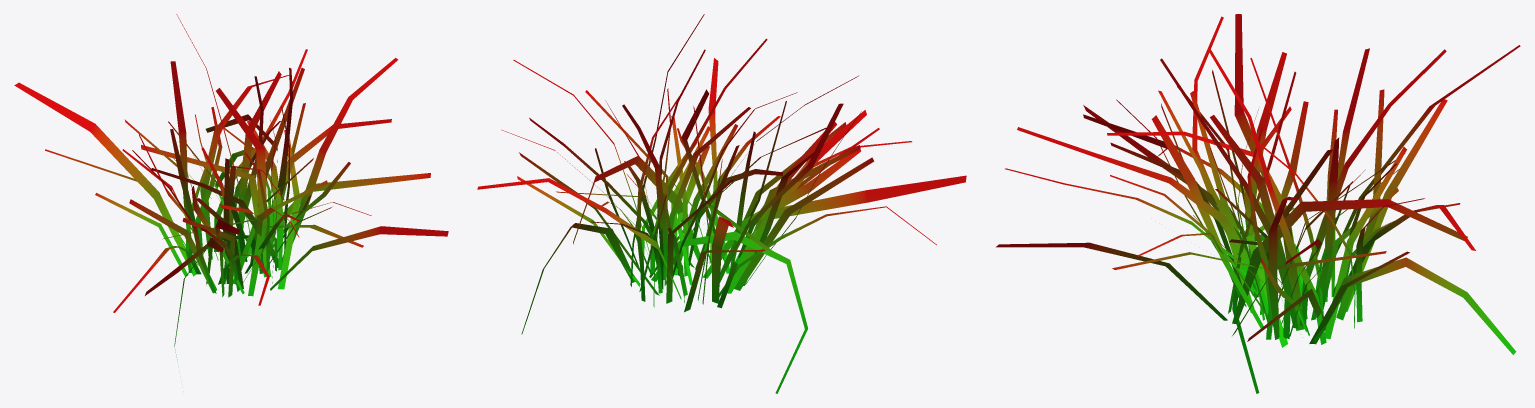
Rendered from Var6_LOD2.fbx.
3 renders of one model, left to right at view 1: azimuth 30°, elevation 25°; view 2: azimuth 150°, elevation 25°; view 3: azimuth 270°, elevation 25°, orthographic. The views are drawn at different scales.
Visible parts, largest first — view 1: Var6_LOD2; view 2: Var6_LOD2; view 3: Var6_LOD2.
Part boxes in pixels (x1,y1,x2,y2): Var6_LOD2: (14, 14, 448, 359); Var6_LOD2: (477, 14, 966, 393); Var6_LOD2: (996, 14, 1520, 393).
Size of the model in its own units: 34.59 by 29.78 by 35.52.
